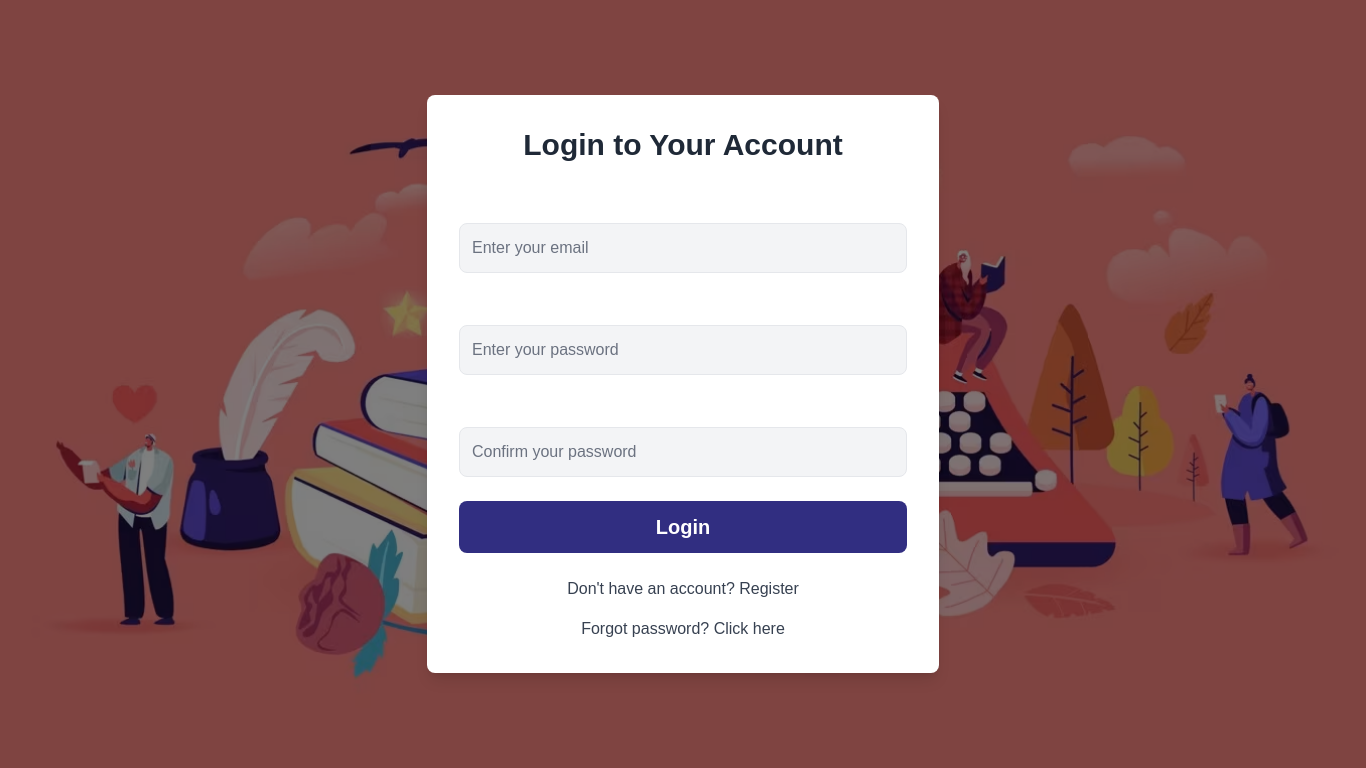
LoginPage › should show error when passwords do not match
Step 1. Type "test@example.com" into the field labelled "Email" → (683, 248), box top-left (459, 223), bottom-right (907, 273)
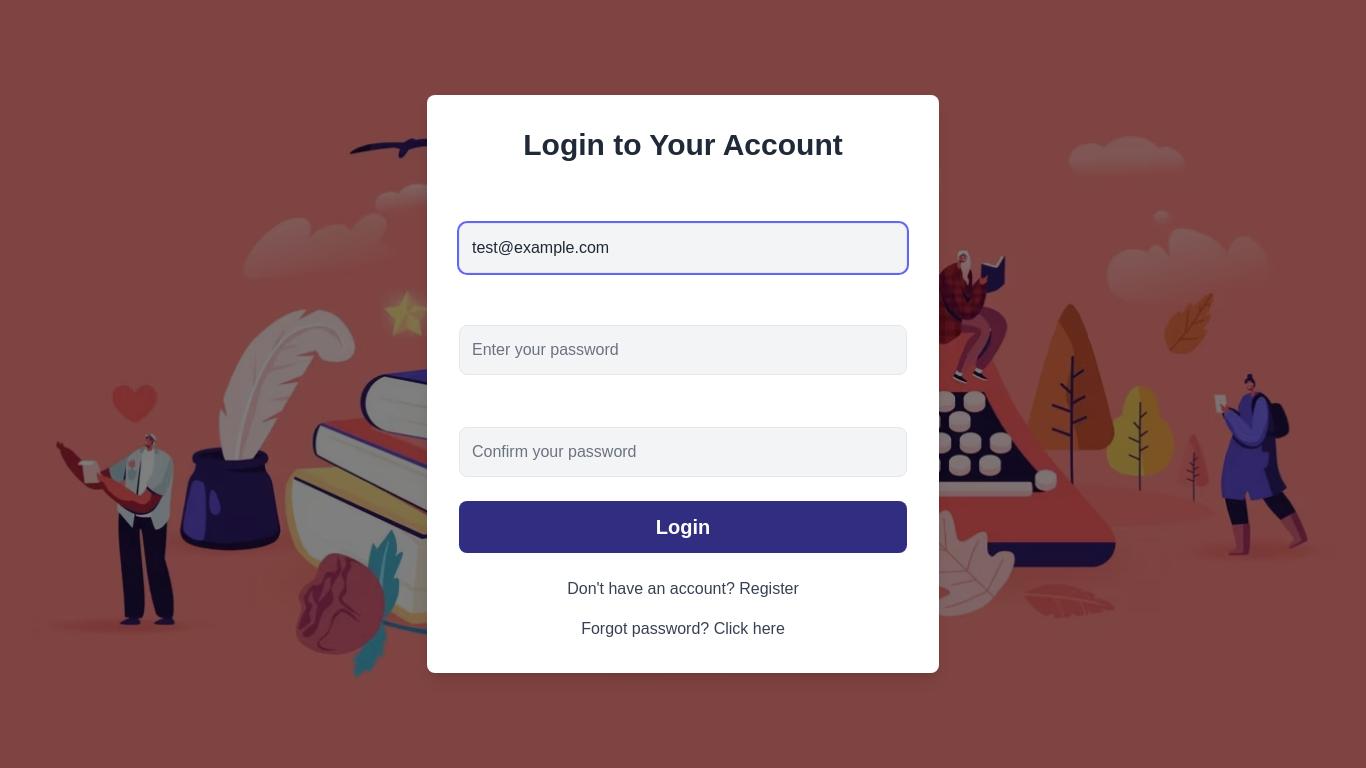
Step 2. Type "password123" into the password field labelled "Password" → (683, 350), box top-left (459, 325), bottom-right (907, 375)
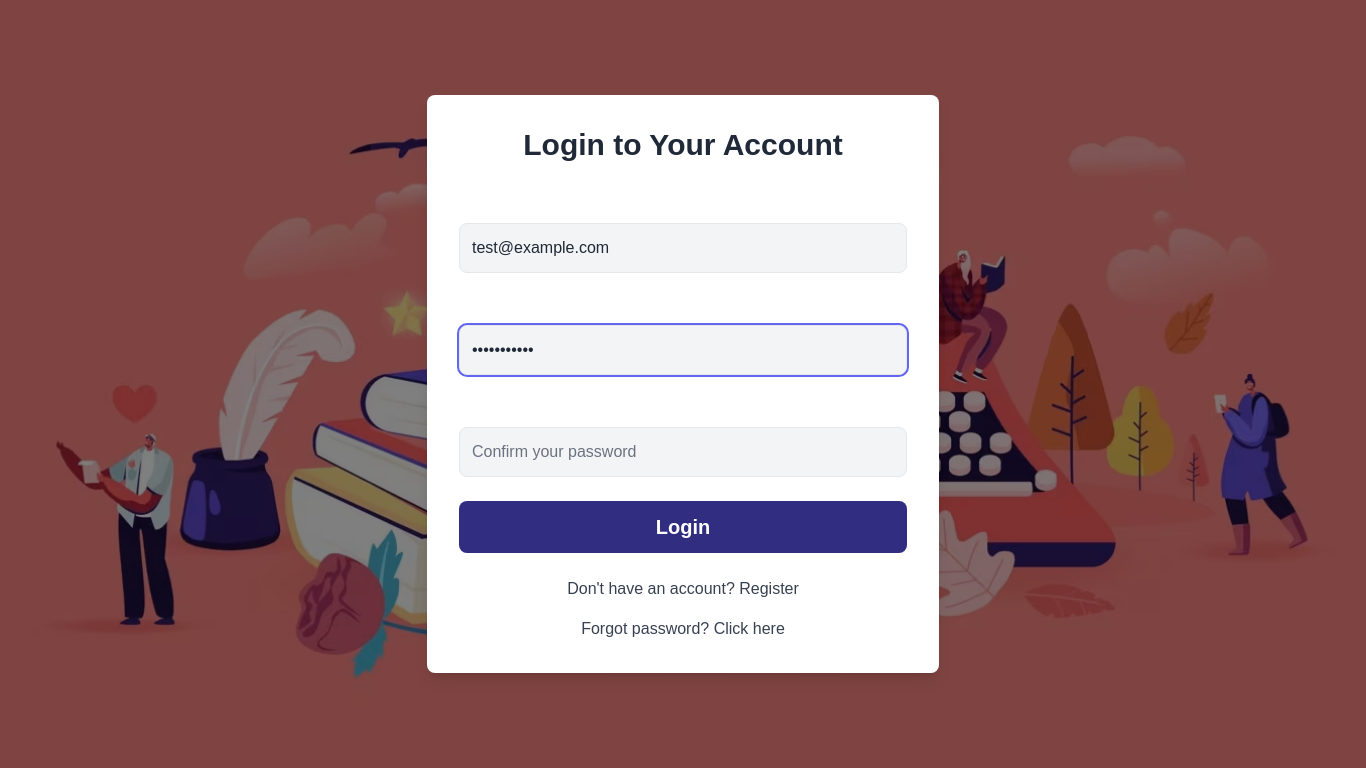
Step 3. Type "different" into the password field labelled "Confirm Password" → (683, 452), box top-left (459, 427), bottom-right (907, 477)
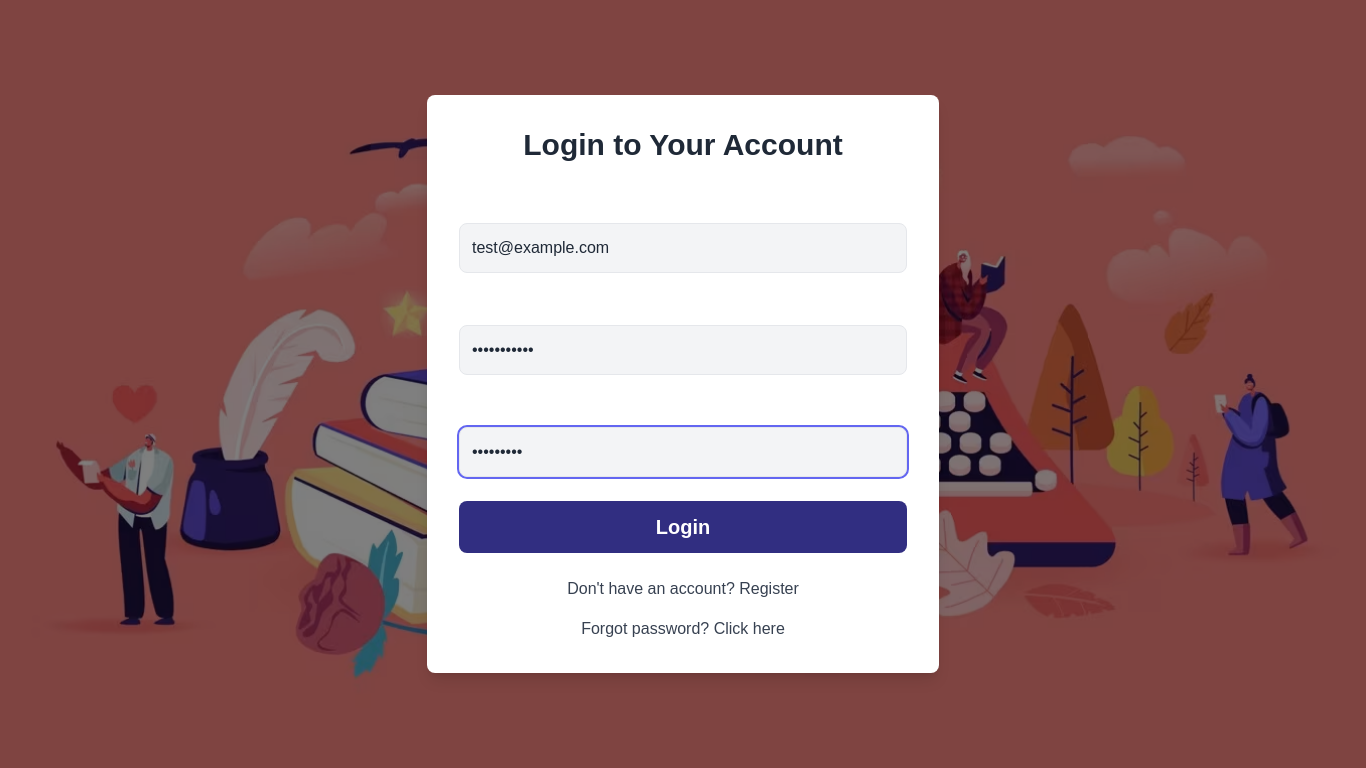
Step 4. Click the button "Login" → (683, 527), box top-left (459, 501), bottom-right (907, 553)
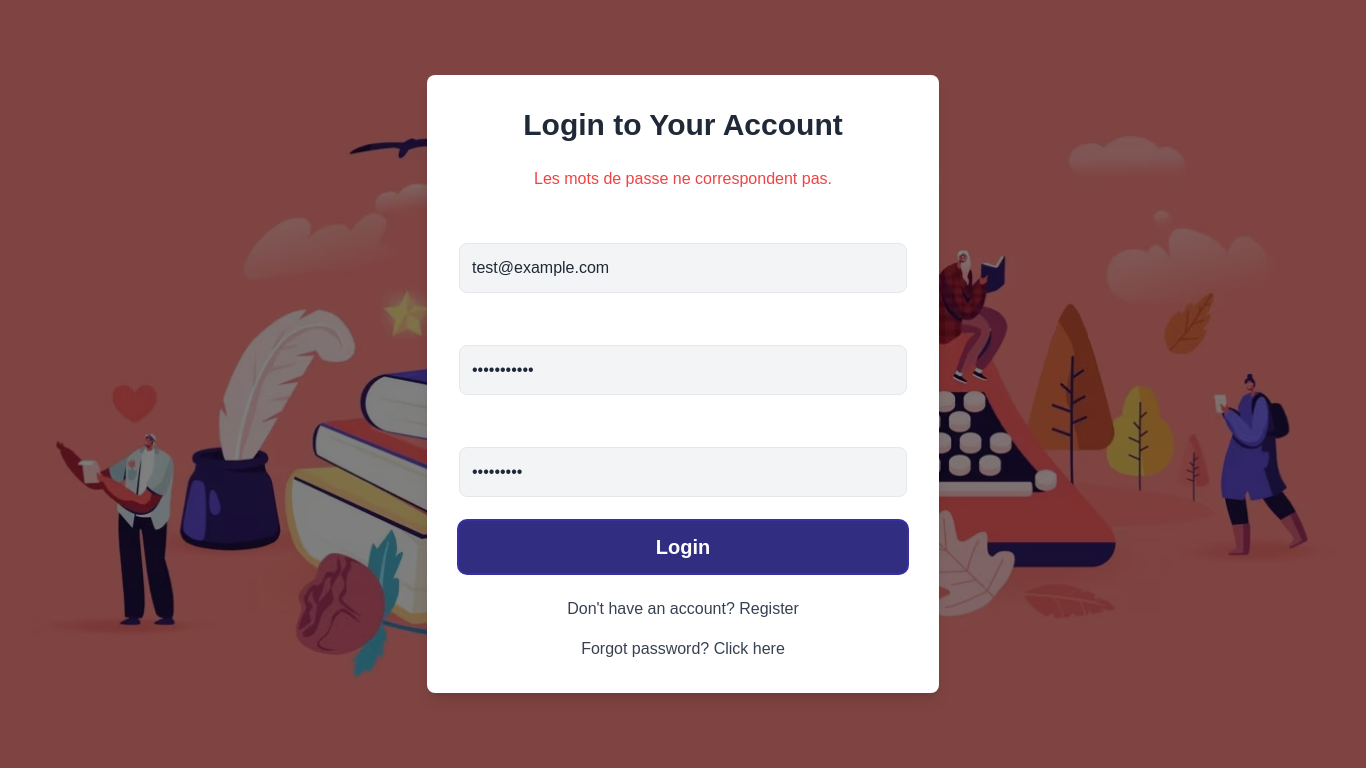
expect the text "Les mots de passe ne correspondent pas." is shown: met, box top-left (534, 170), bottom-right (832, 187)
